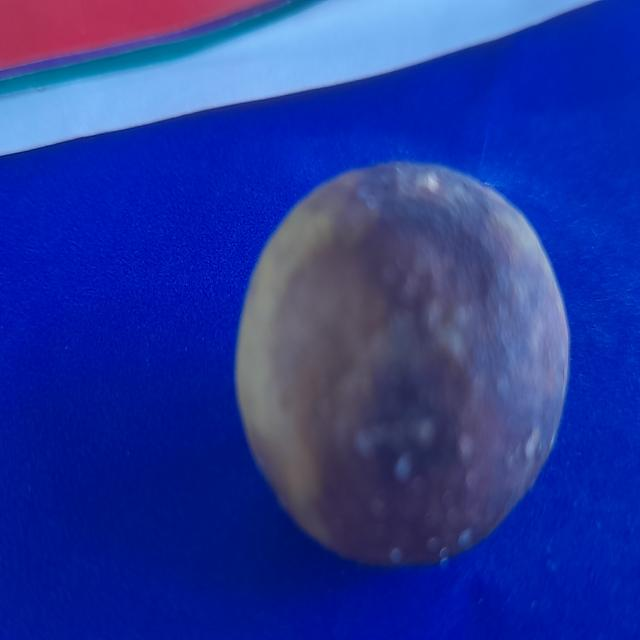black spot: (210, 136, 574, 583)
